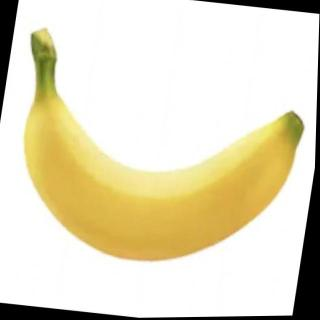banana: (5, 76, 311, 282)
